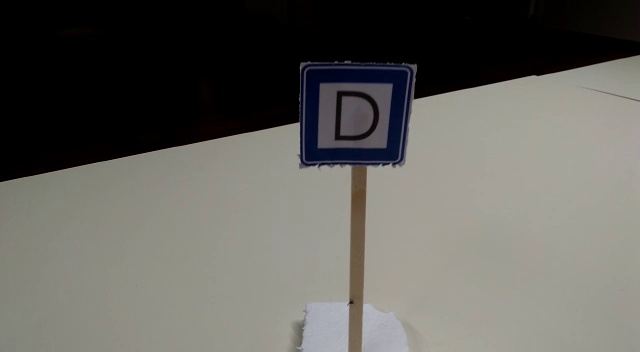durak: (301, 61, 411, 165)
